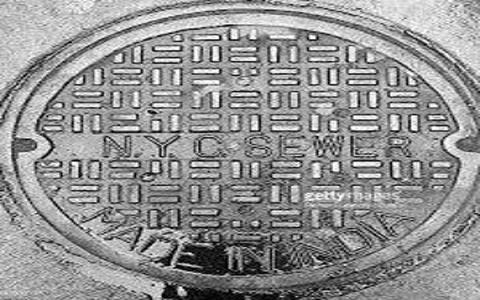proper manhole: (4, 1, 478, 296)
